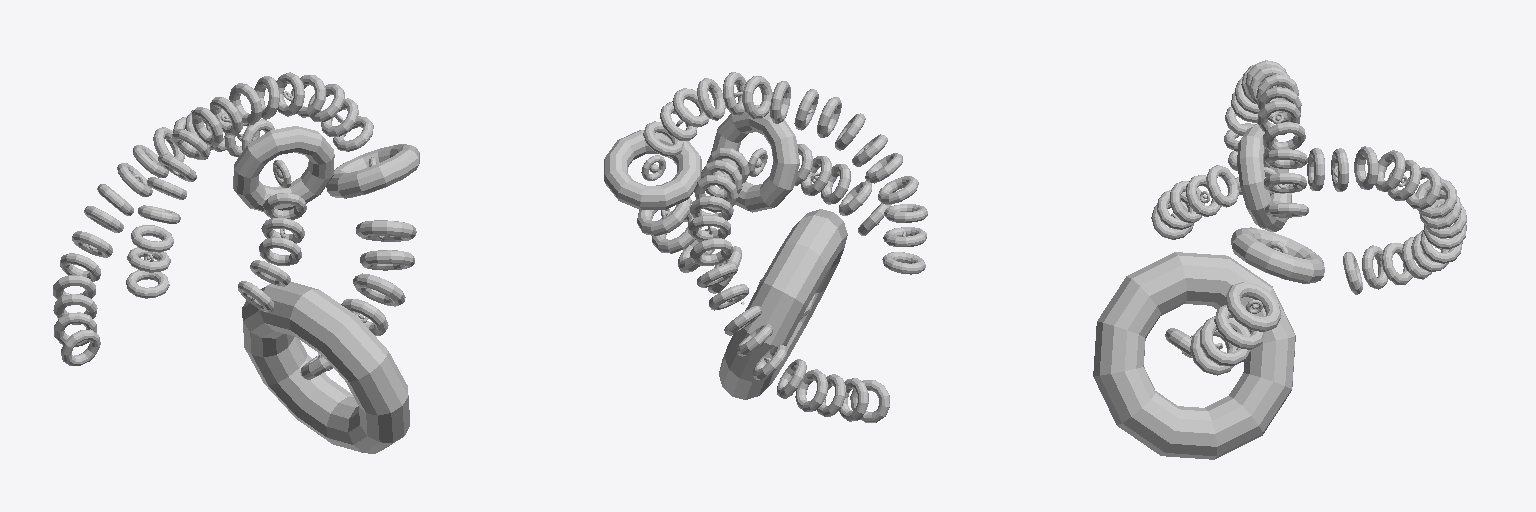
3 views of the same model, side by side, from view 1: azimuth 30°, elevation 25°; view 2: azimuth 150°, elevation 25°; view 3: azimuth 270°, elevation 25° (orthographic).
Visible parts, largest first — view 1: group[number redacted], group[number redacted], group[number redacted], group[number redacted], group[number redacted], group[number redacted], group[number redacted], group[number redacted], group[number redacted], group[number redacted], group[number redacted], group[number redacted] (+25 smaller); view 2: group[number redacted], group[number redacted], group[number redacted], group[number redacted], group[number redacted], group[number redacted], group[number redacted], group[number redacted], group[number redacted], group[number redacted], group[number redacted], group[number redacted] (+27 smaller); view 3: group[number redacted], group[number redacted], group[number redacted], group[number redacted], group[number redacted], group[number redacted], group[number redacted], group[number redacted], group[number redacted], group[number redacted], group[number redacted], group[number redacted] (+19 smaller).
Boxes of the visible parts, x1,y1,x2,y2 form: group[number redacted]: [242, 282, 409, 453]; group[number redacted]: [233, 126, 334, 211]; group[number redacted]: [326, 144, 419, 198]; group[number redacted]: [353, 273, 405, 306]; group[number redacted]: [356, 220, 416, 241]; group[number redacted]: [360, 250, 414, 270]; group[number redacted]: [61, 329, 100, 365]; group[number redacted]: [259, 237, 301, 265]; group[number redacted]: [131, 225, 173, 252]; group[number redacted]: [126, 270, 169, 298]; group[number redacted]: [263, 193, 306, 219]; group[number redacted]: [192, 107, 222, 146]; group[number redacted]: [719, 209, 847, 399]; group[number redacted]: [604, 130, 701, 209]; group[number redacted]: [711, 105, 799, 212]; group[number redacted]: [637, 198, 691, 235]; group[number redacted]: [742, 76, 772, 118]; group[number redacted]: [795, 369, 827, 411]; group[number redacted]: [690, 238, 733, 265]; group[number redacted]: [697, 78, 725, 120]; group[number redacted]: [688, 215, 730, 240]; group[number redacted]: [878, 176, 918, 204]; group[number redacted]: [850, 380, 889, 422]; group[number redacted]: [839, 378, 868, 421]; group[number redacted]: [1093, 252, 1295, 459]; group[number redacted]: [1231, 227, 1324, 283]; group[number redacted]: [1237, 126, 1291, 231]; group[number redacted]: [1225, 282, 1281, 331]; group[number redacted]: [1200, 316, 1250, 366]; group[number redacted]: [1214, 305, 1264, 349]; group[number redacted]: [1206, 165, 1238, 207]; group[number redacted]: [1263, 122, 1305, 150]; group[number redacted]: [1354, 146, 1378, 189]; group[number redacted]: [1375, 150, 1405, 191]; group[number redacted]: [1416, 178, 1456, 218]; group[number redacted]: [1190, 326, 1236, 375].
Size of the model in its own units: 76.2 by 80.91 by 77.96.